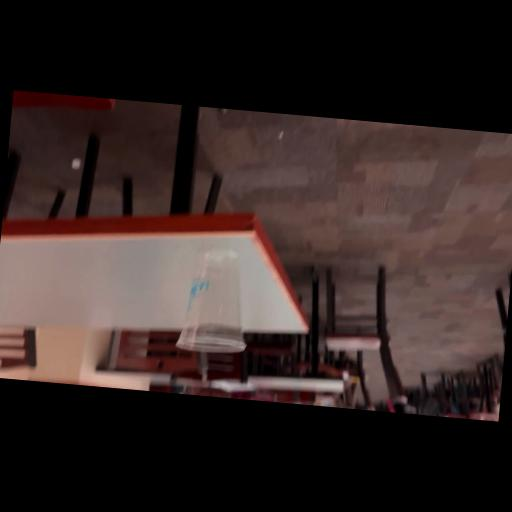lp_plastic_cup: (172, 244, 256, 360)
